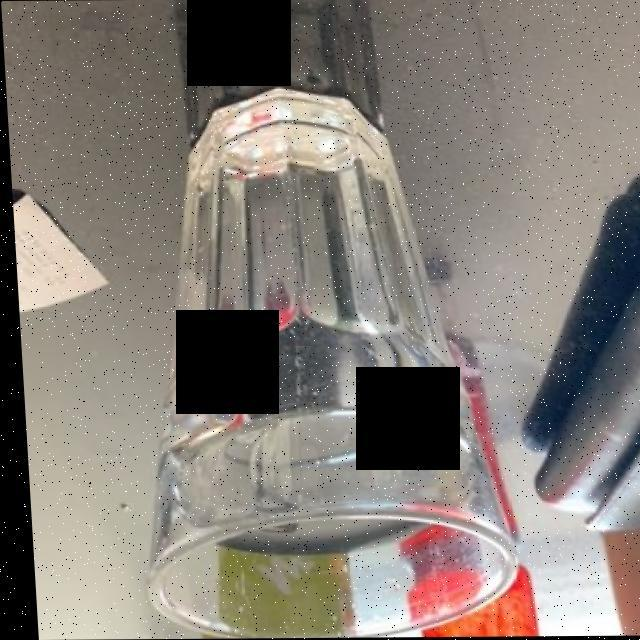water: (151, 114, 466, 551), (161, 128, 467, 558)
